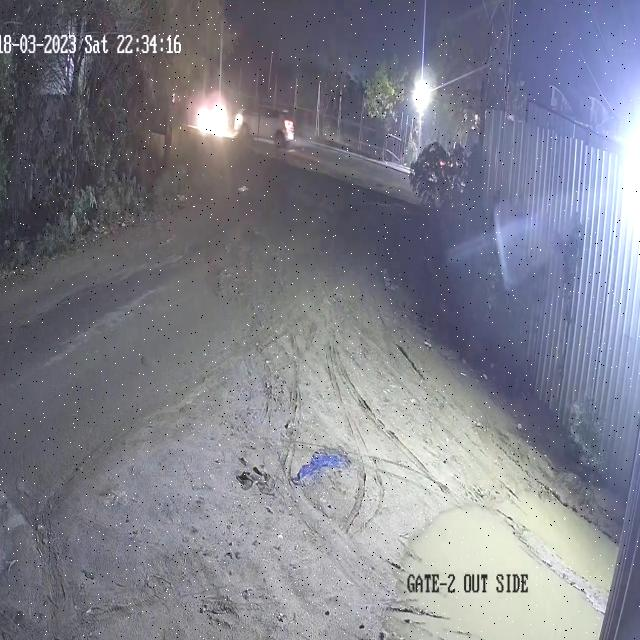accident: (190, 84, 297, 153)
